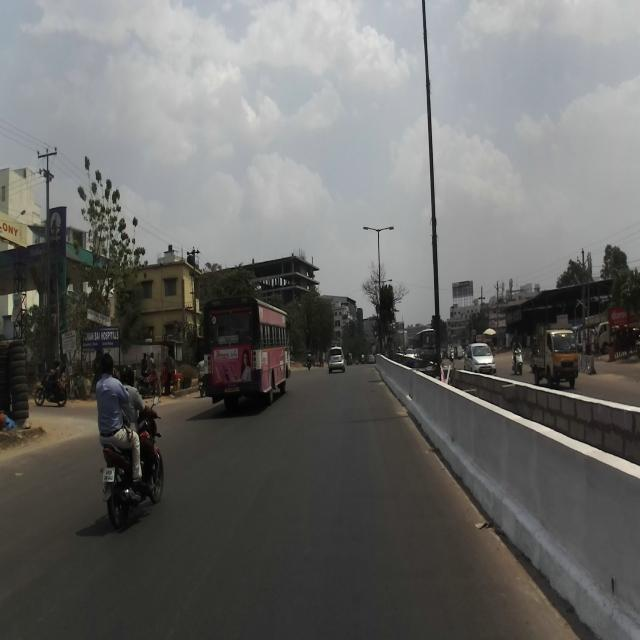bus: (202, 298, 291, 402)
motorcycle_Honda: (99, 395, 164, 530)
truck: (532, 328, 579, 388)
